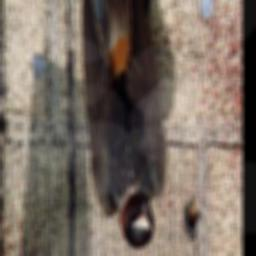Swallow: (79, 0, 166, 251)
